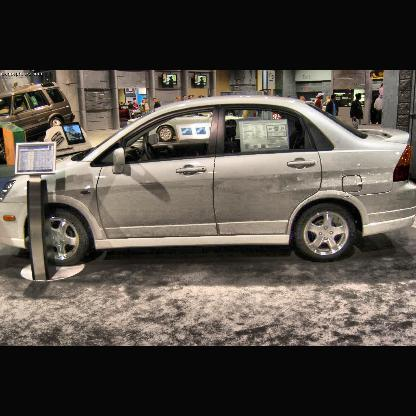Suzuki Aerio Sedan 2007: (4, 95, 416, 264)
